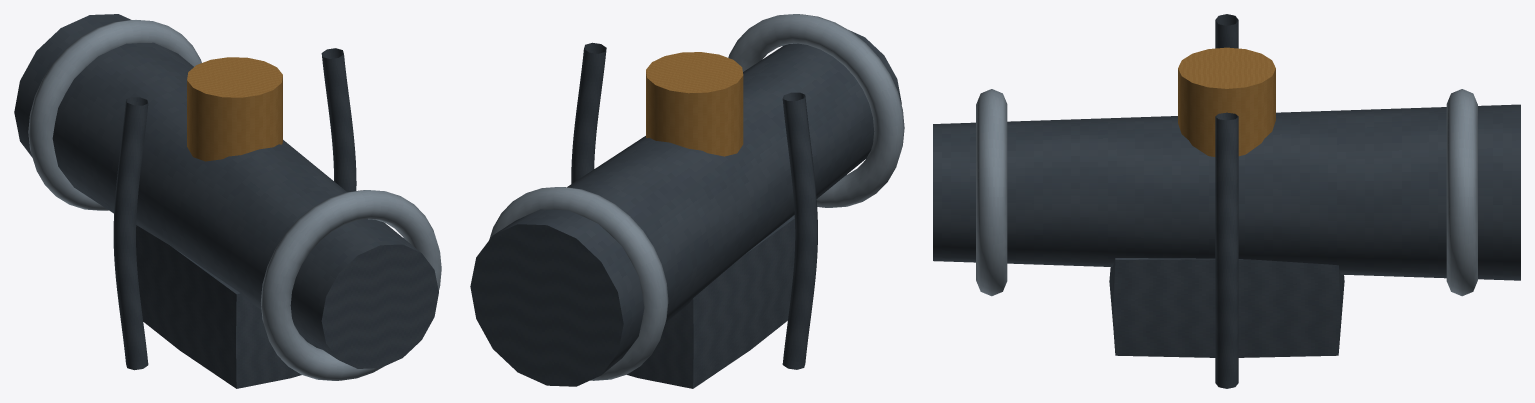
The picture shows the model from 3 angles, left to right: view 1: azimuth 30°, elevation 25°; view 2: azimuth 150°, elevation 25°; view 3: azimuth 270°, elevation 25°; orthographic projection.
Visible parts, largest first — view 1: iron.0, iron.3, steel.2, brass.4, steel.1, iron.5, iron.6; view 2: iron.0, iron.3, steel.2, brass.4, steel.1, iron.5, iron.6; view 3: iron.0, iron.3, brass.4, iron.6, steel.1, steel.2, iron.5.
Boxes of the visible parts, x1,y1,x2,y2 form: iron.0: [14, 14, 438, 368]; iron.3: [136, 225, 321, 388]; steel.2: [261, 190, 441, 380]; brass.4: [187, 57, 282, 161]; steel.1: [28, 20, 201, 210]; iron.5: [113, 97, 148, 370]; iron.6: [321, 48, 356, 192]; iron.0: [470, 30, 901, 386]; iron.3: [627, 215, 795, 388]; steel.2: [728, 14, 904, 207]; brass.4: [646, 52, 743, 156]; steel.1: [489, 187, 668, 380]; iron.5: [782, 92, 817, 369]; iron.6: [571, 42, 606, 183]; iron.0: [933, 104, 1520, 280]; iron.3: [1109, 258, 1344, 357]; brass.4: [1178, 47, 1275, 156]; iron.6: [1215, 112, 1238, 388]; steel.1: [1446, 89, 1477, 296]; steel.2: [976, 89, 1007, 296]; iron.5: [1215, 14, 1238, 48].
Size of the model in its own units: 0.1434 by 0.1512 by 0.3.
3 materials, 3 textured.
